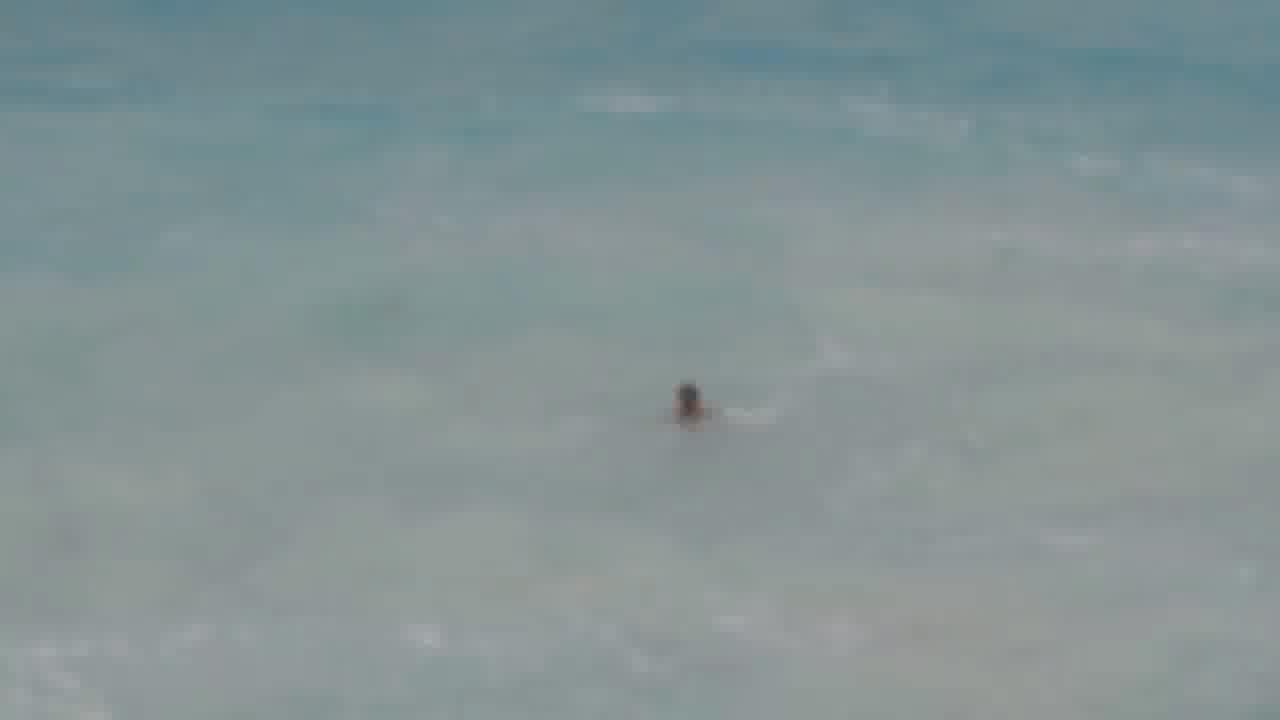human: (660, 366, 734, 442)
